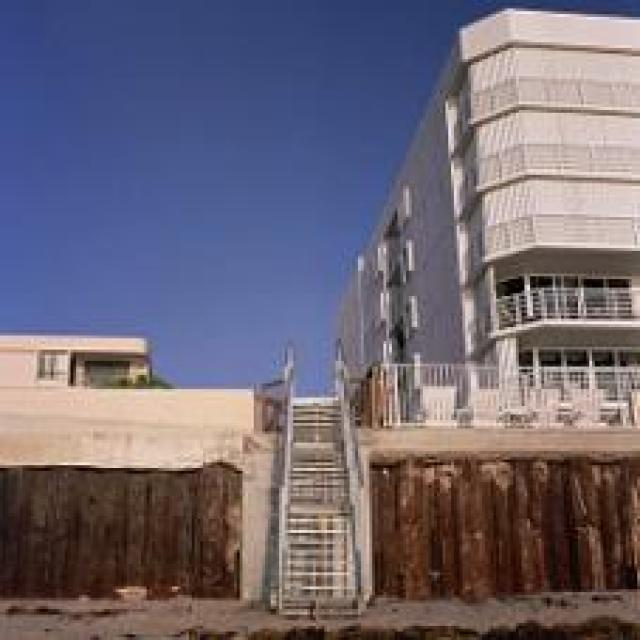upstair: (266, 373, 373, 610)
